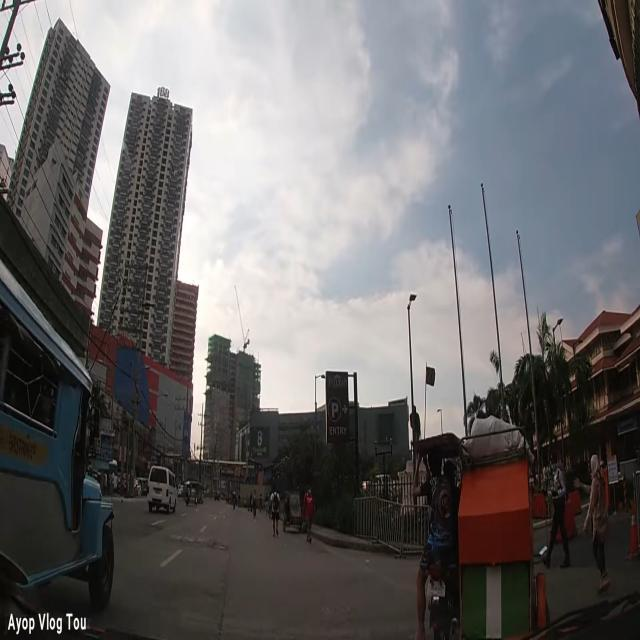car: (146, 464, 178, 516)
jeepney: (0, 260, 115, 614)
tricycle: (410, 417, 550, 640), (282, 488, 302, 534), (184, 482, 198, 508)
